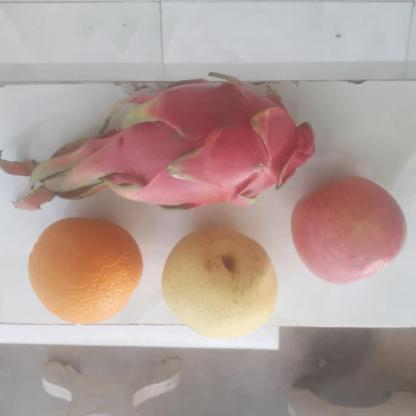apple: (293, 180, 412, 287)
orange: (25, 220, 149, 324)
pear: (158, 231, 283, 338)
pitaya: (84, 82, 320, 214)
